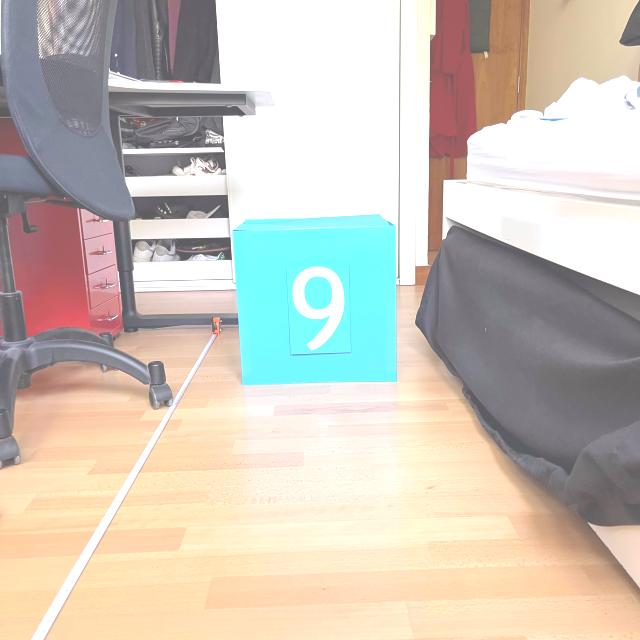box: (228, 210, 402, 388)
